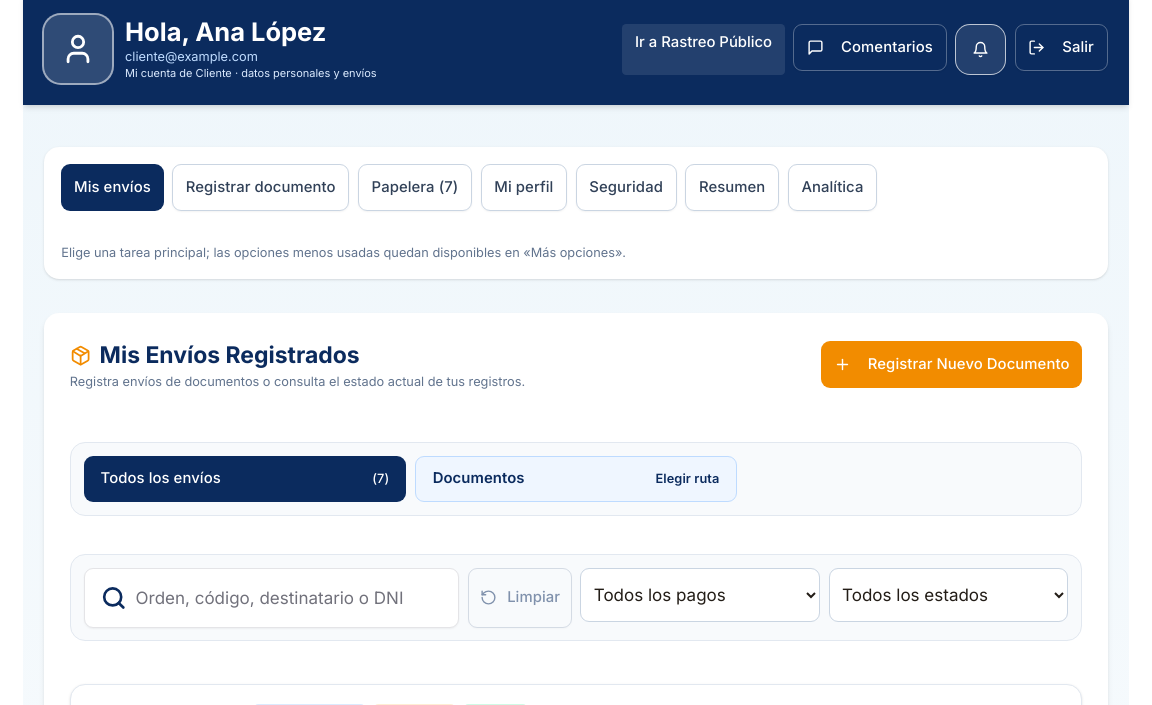
Scenario: AccountPage client labels › shows six records per page and keeps the deleted list closed until requested
Click the button "Comentarios".
click(870, 47)  # box [793,24,946,71]
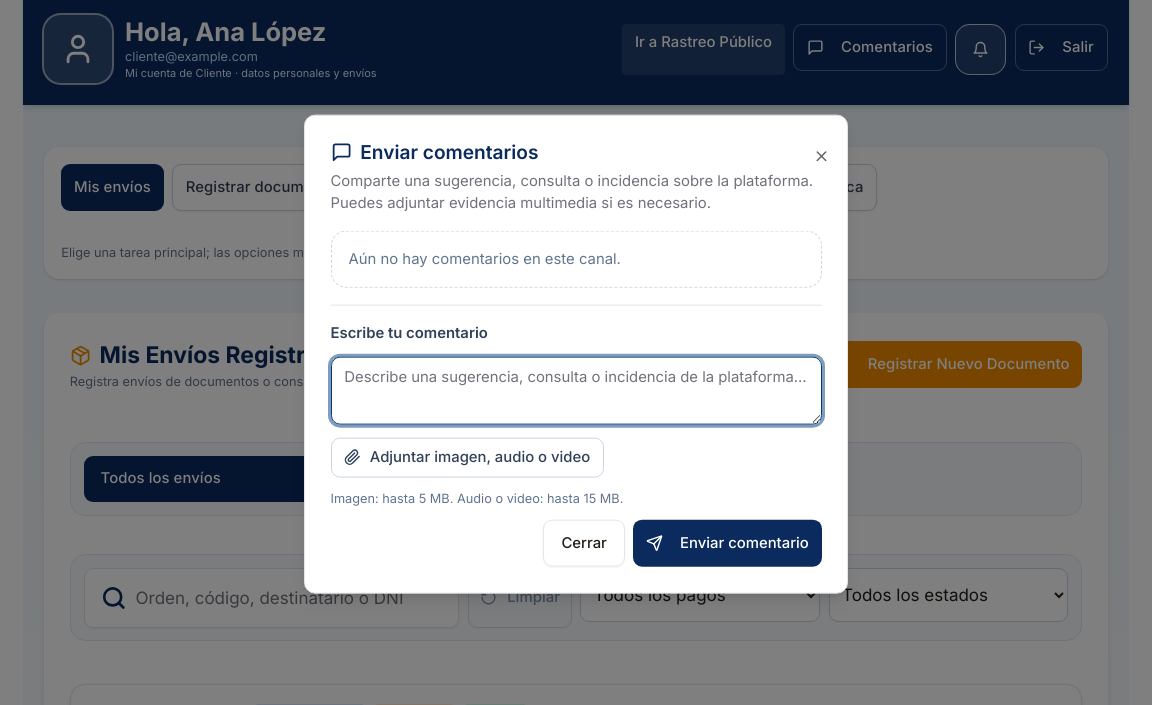
Expected: the heading "Enviar comentarios" is shown, [330,139,538,163]
Click the button "Cerrar".
click(584, 544)  # box [543,520,625,567]
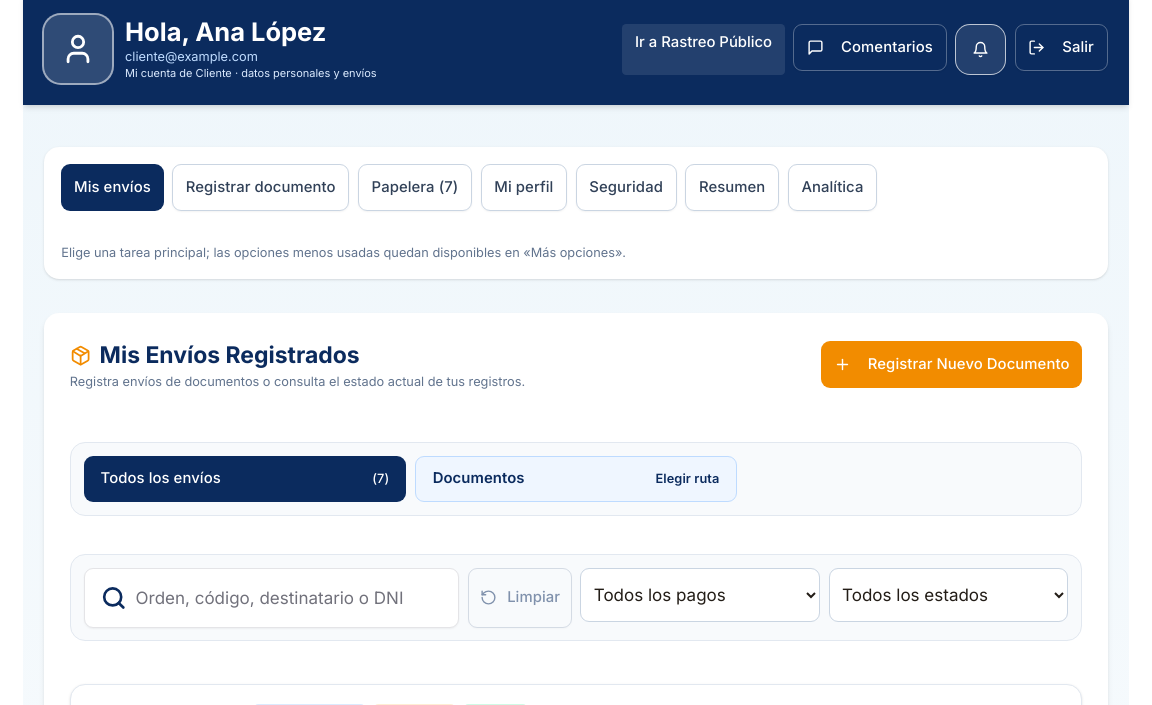
Click the button "Papelera (7)".
click(415, 187)  # box [358,164,472,211]
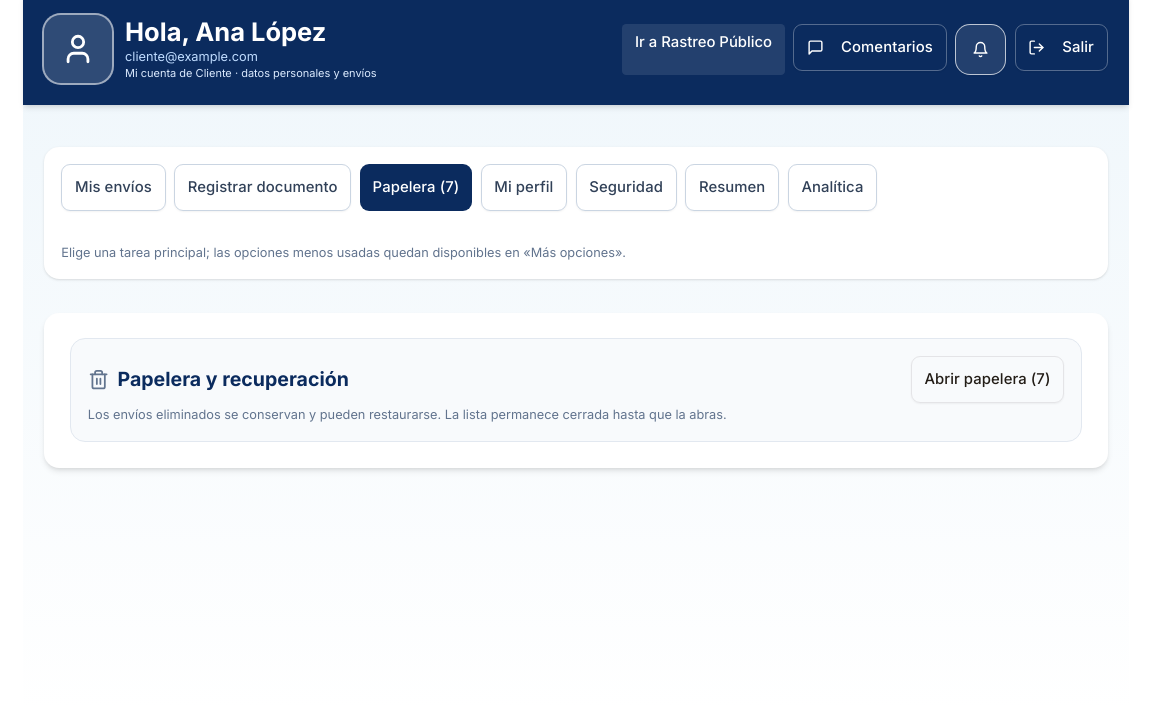
Expected: the button "Abrir papelera (7)" is shown
Click the button "Abrir papelera (7)".
click(987, 380)  # box [911,356,1064,403]
(page scrolled)
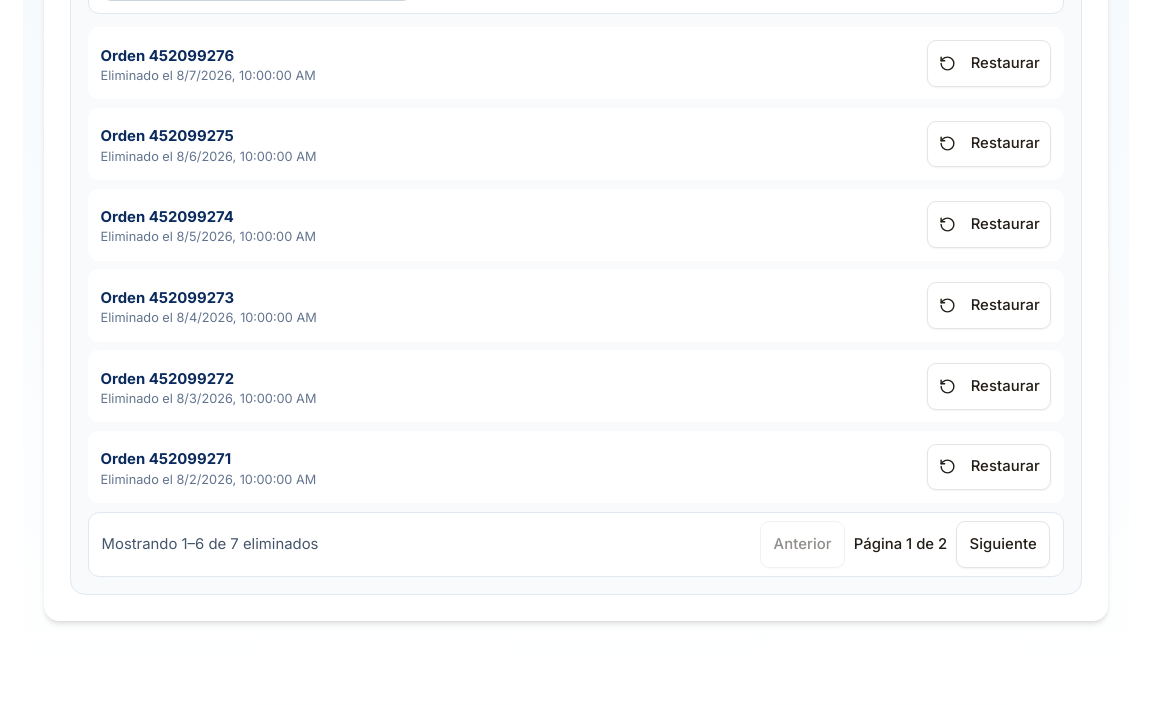
Expected: the text "Mostrando 1–6 de 7 eliminados" is shown, [102,534,318,555]
